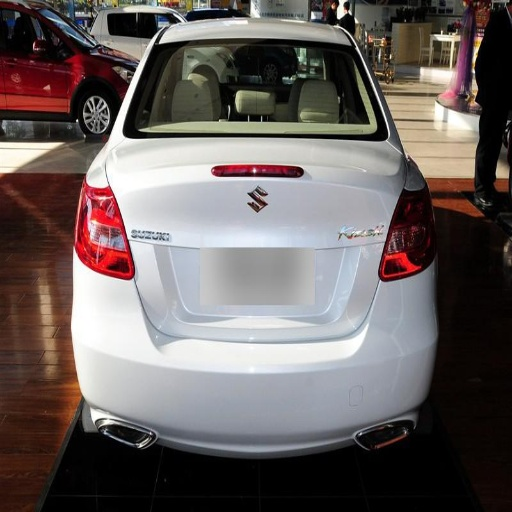back_bumper: (78, 261, 438, 461)
tailgate: (109, 151, 400, 342)
